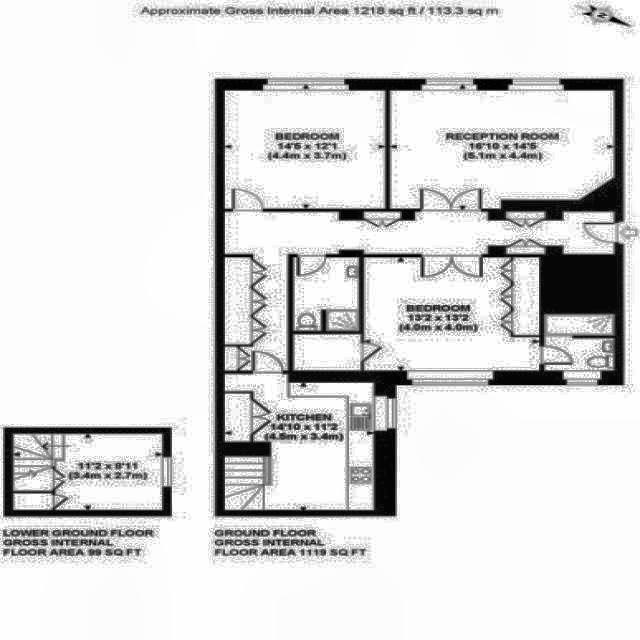room: (390, 89, 614, 209), (224, 373, 374, 511), (364, 257, 539, 371), (224, 91, 385, 209), (224, 211, 615, 255), (12, 433, 164, 511), (225, 257, 288, 371), (293, 257, 359, 331), (544, 314, 615, 371), (293, 334, 361, 371), (225, 393, 250, 441)
